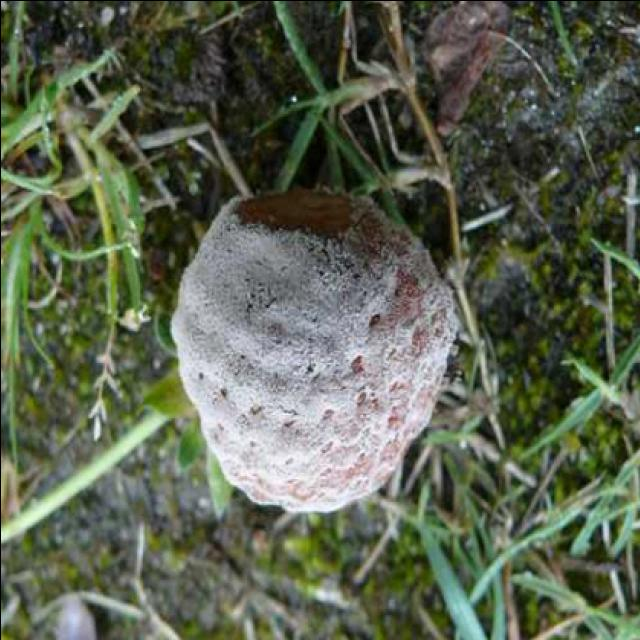Gray Mold: (171, 186, 459, 514)
